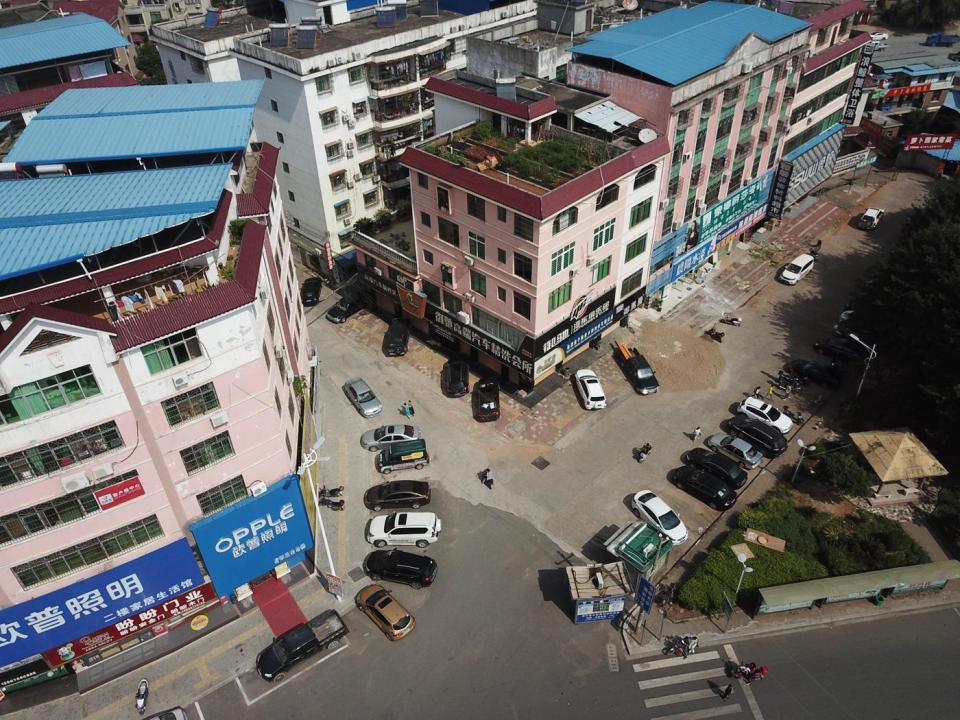car: (356, 584, 416, 641), (365, 546, 438, 590), (632, 490, 688, 546), (672, 465, 737, 511), (728, 415, 788, 458), (687, 447, 748, 489), (368, 512, 441, 547), (736, 396, 794, 434), (363, 480, 430, 511), (707, 433, 763, 469), (362, 425, 420, 453), (343, 377, 382, 418), (814, 337, 869, 363), (576, 369, 608, 410), (326, 296, 367, 324), (780, 253, 814, 285), (477, 378, 501, 422), (387, 318, 411, 356), (446, 361, 469, 399), (790, 360, 828, 379), (301, 276, 322, 306), (840, 310, 878, 326), (858, 207, 884, 230), (846, 300, 883, 312), (868, 41, 889, 52), (868, 32, 888, 40)
truck: (622, 347, 660, 396), (925, 32, 959, 47)
van: (256, 608, 350, 683), (377, 440, 429, 475)
